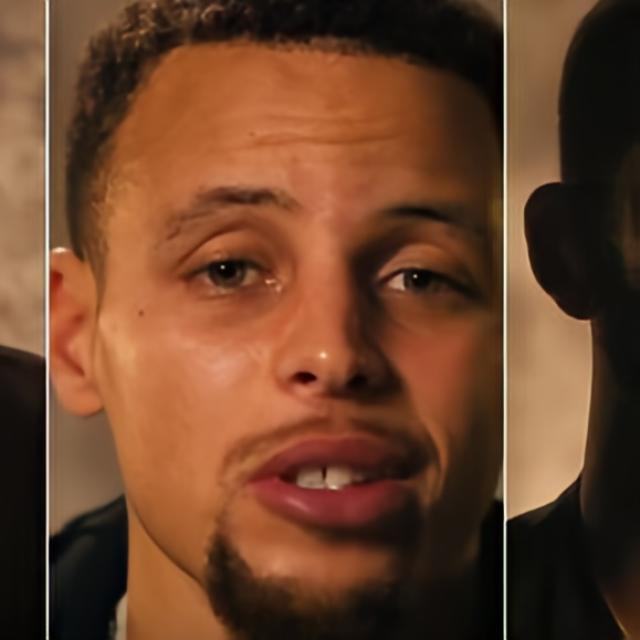sad: (97, 39, 510, 598)
